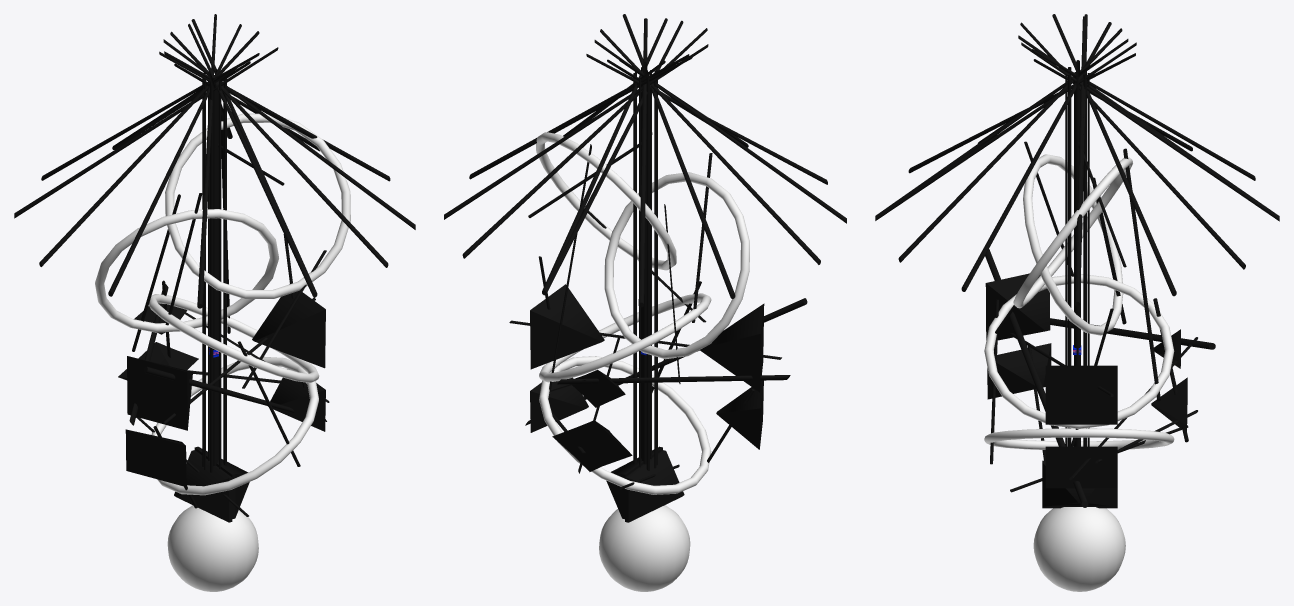
The model's file is Final-Noctique.obj.
3 views of the same model, side by side, from view 1: azimuth 30°, elevation 25°; view 2: azimuth 150°, elevation 25°; view 3: azimuth 270°, elevation 25° (orthographic).
Visible parts, largest first — view 1: group9 group8 pCylinder38, group9 pSphere1 group8, group9 group8 pTorus4, group9 pTorus3, group9 pCube10, group9 pCube19, group9 pTorus2, pTorus1 group9, group9 pCube9, group9 pCylinder1, group9 pCube12, group9 pCube2 (+10 smaller); view 2: group9 group8 pCylinder38, group9 pSphere1 group8, group9 pTorus3, group9 pCube19, pTorus1 group9, group9 group8 pTorus4, group9 pCube10, group9 pTorus2, group9 pCube13, group9 pCube12, group9 pCube9, group9 pCube2 (+13 smaller); view 3: group9 group8 pCylinder38, group9 pSphere1 group8, group9 pCube19, group9 pTorus2, group9 pCube2, group9 pTorus3, pTorus1 group9, group9 group8 pTorus4, group9 pCube10, group9 pCube9, group9 pCube11, group9 pCylinder14 (+9 smaller).
Boxes of the visible parts, left/top/right/bottom form: group9 group8 pCylinder38: left=14, top=14, right=415, bottom=308; group9 pSphere1 group8: left=167, top=505, right=258, bottom=591; group9 group8 pTorus4: left=165, top=113, right=350, bottom=298; group9 pTorus3: left=95, top=209, right=278, bottom=332; group9 pCube10: left=127, top=356, right=192, bottom=430; group9 pCube19: left=252, top=284, right=325, bottom=368; group9 pTorus2: left=149, top=294, right=319, bottom=382; pTorus1 group9: left=151, top=356, right=318, bottom=495; group9 pCube9: left=125, top=429, right=186, bottom=486; group9 pCylinder1: left=212, top=75, right=218, bottom=465; group9 pCube12: left=174, top=450, right=232, bottom=522; group9 pCube2: left=268, top=369, right=325, bottom=431; group9 group8 pCylinder38: left=444, top=14, right=846, bottom=307; group9 pSphere1 group8: left=599, top=505, right=690, bottom=591; group9 pTorus3: left=604, top=172, right=749, bottom=359; group9 pCube19: left=530, top=284, right=604, bottom=369; pTorus1 group9: left=539, top=356, right=711, bottom=494; group9 group8 pTorus4: left=536, top=132, right=676, bottom=270; group9 pCube10: left=700, top=303, right=764, bottom=392; group9 pTorus2: left=539, top=293, right=711, bottom=382; group9 pCube13: left=552, top=420, right=632, bottom=471; group9 pCube12: left=625, top=450, right=684, bottom=522; group9 pCube9: left=716, top=380, right=763, bottom=449; group9 pCube2: left=530, top=377, right=588, bottom=432; group9 group8 pCylinder38: left=875, top=14, right=1279, bottom=306; group9 pSphere1 group8: left=1033, top=507, right=1125, bottom=591; group9 pCube19: left=1045, top=365, right=1117, bottom=424; group9 pTorus2: left=984, top=274, right=1174, bottom=428; group9 pCube2: left=1045, top=446, right=1117, bottom=488; group9 pTorus3: left=1023, top=154, right=1123, bottom=335; pTorus1 group9: left=984, top=428, right=1174, bottom=449; group9 group8 pTorus4: left=1013, top=157, right=1132, bottom=308; group9 pCube10: left=985, top=273, right=1050, bottom=340; group9 pCube9: left=987, top=343, right=1051, bottom=399; group9 pCube11: left=1042, top=460, right=1117, bottom=506; group9 pCylinder14: left=1067, top=73, right=1071, bottom=446.
Size of the model in its own units: 15.05 by 22.55 by 15.05.
